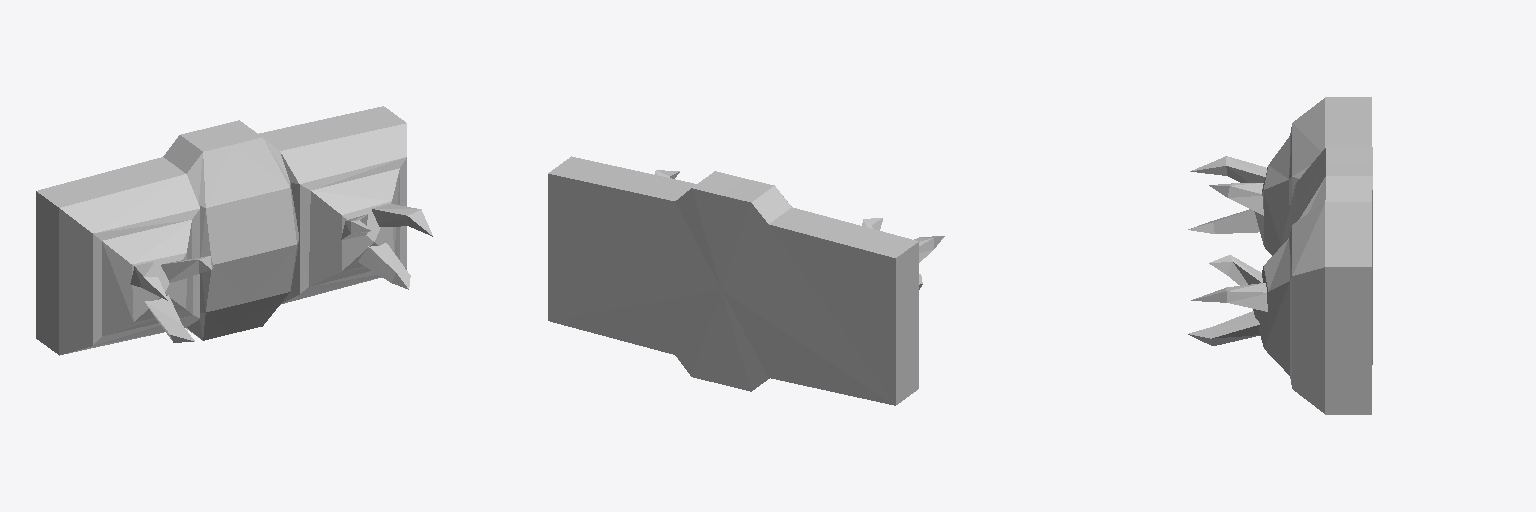
File: Altar-misc-02.obj
The picture shows the model from 3 angles: view 1: azimuth 30°, elevation 25°; view 2: azimuth 150°, elevation 25°; view 3: azimuth 270°, elevation 25°; orthographic projection.
Visible parts, largest first — view 1: (null); view 2: (null); view 3: (null).
Boxes of the visible parts, x1,y1,x2,y2 form: (null): [36, 106, 432, 355]; (null): [548, 156, 944, 405]; (null): [1188, 97, 1372, 414].
Size of the model in its own units: 5.33 by 2.77 by 2.47.